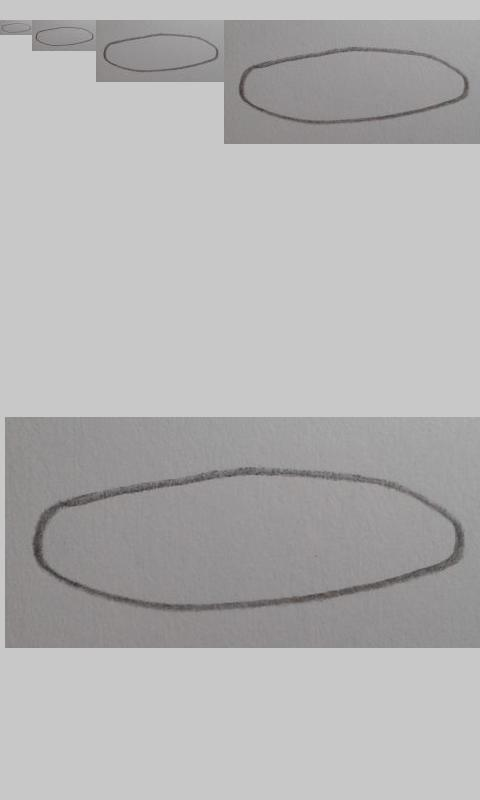chip: (31, 467, 466, 613), (238, 47, 469, 125), (103, 33, 219, 73), (35, 26, 94, 47), (1, 23, 31, 33)
